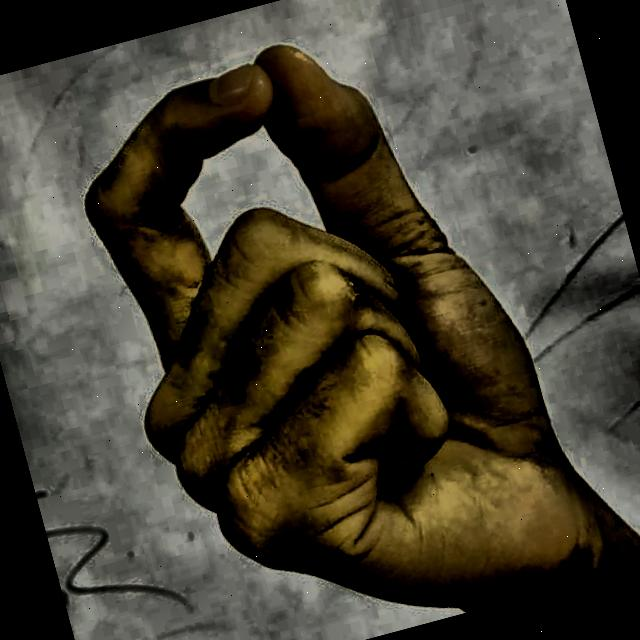Gha: (22, 0, 640, 640)
